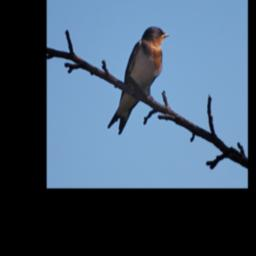Swallow: (107, 26, 169, 135)
